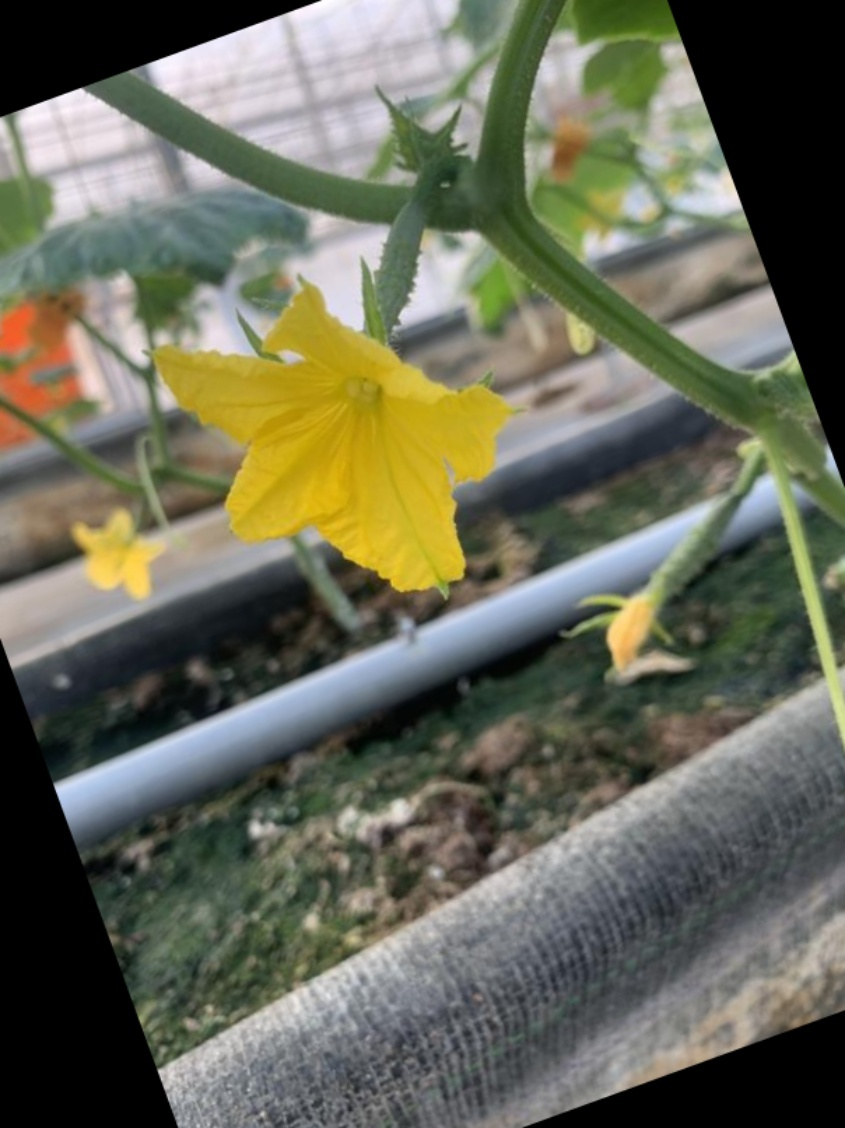bear: (776, 480, 845, 999)
